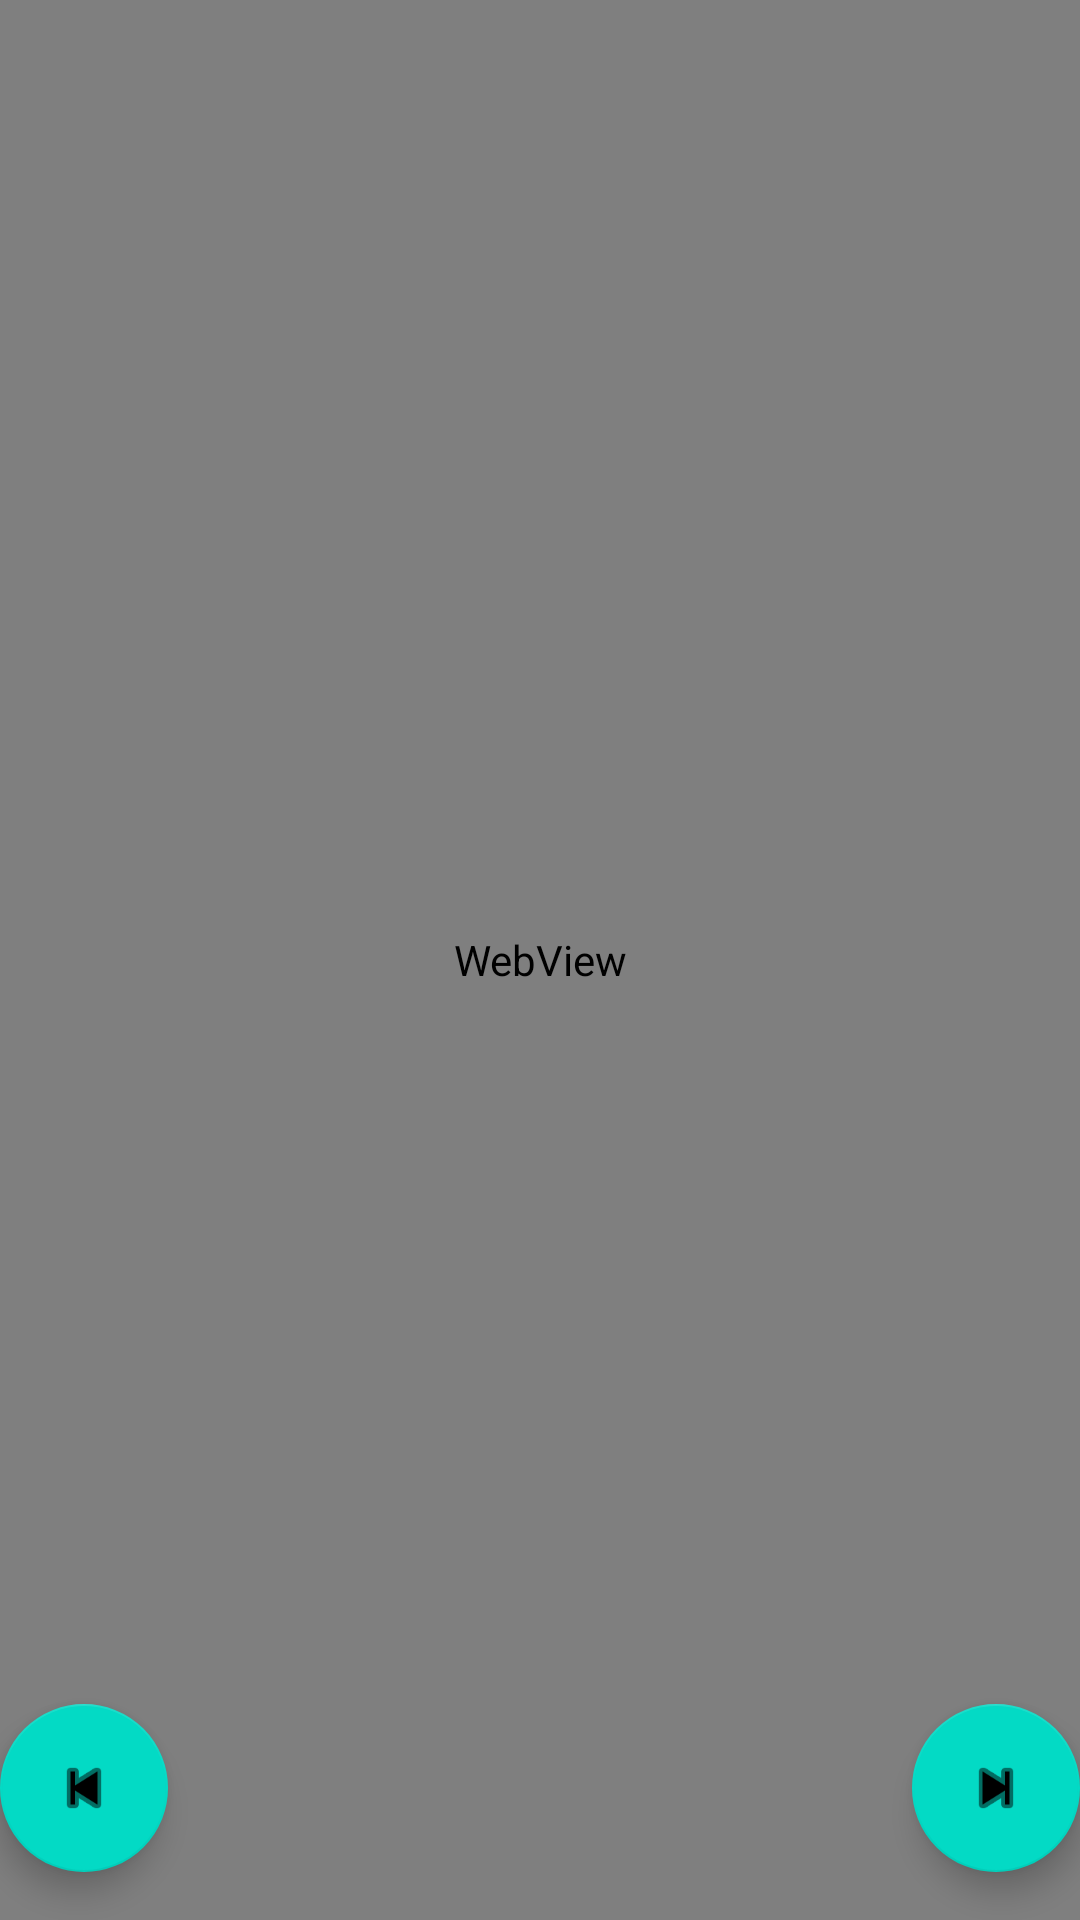

Screen size 1080px×1920px. Icon name, then its center in pixels as (x=x, y=y):
next: (x=996, y=1788)
previous: (x=84, y=1788)
